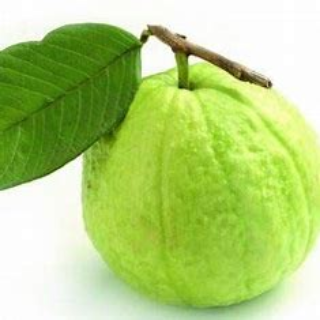oi: (80, 66, 317, 310)
